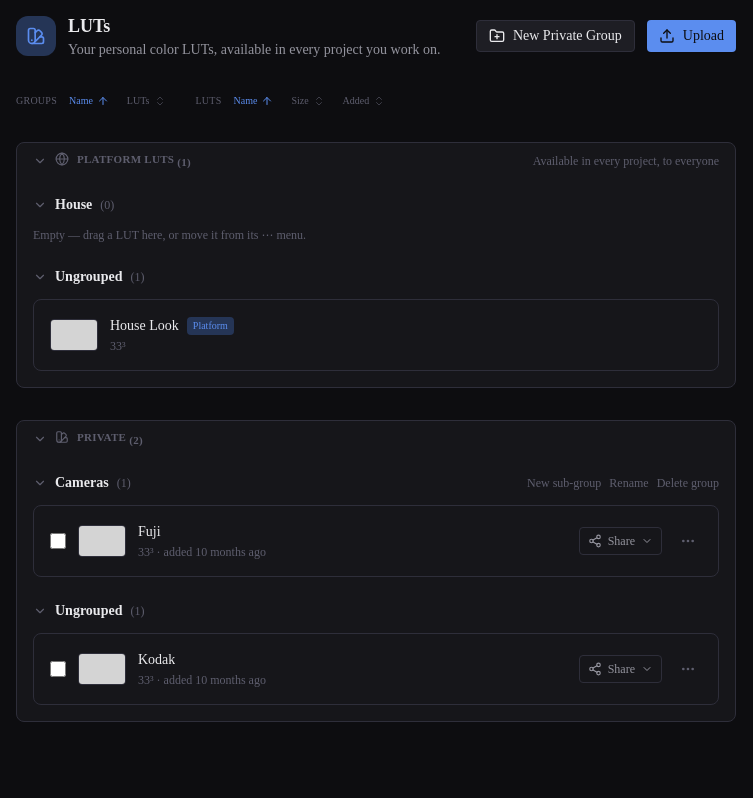
Scenario: platform promote and demote › shows neither to a non-superadmin
Click the checkbox named "Select Kodak". click: coordinates (58, 668)
box: x1=50 y1=660 x2=66 y2=676
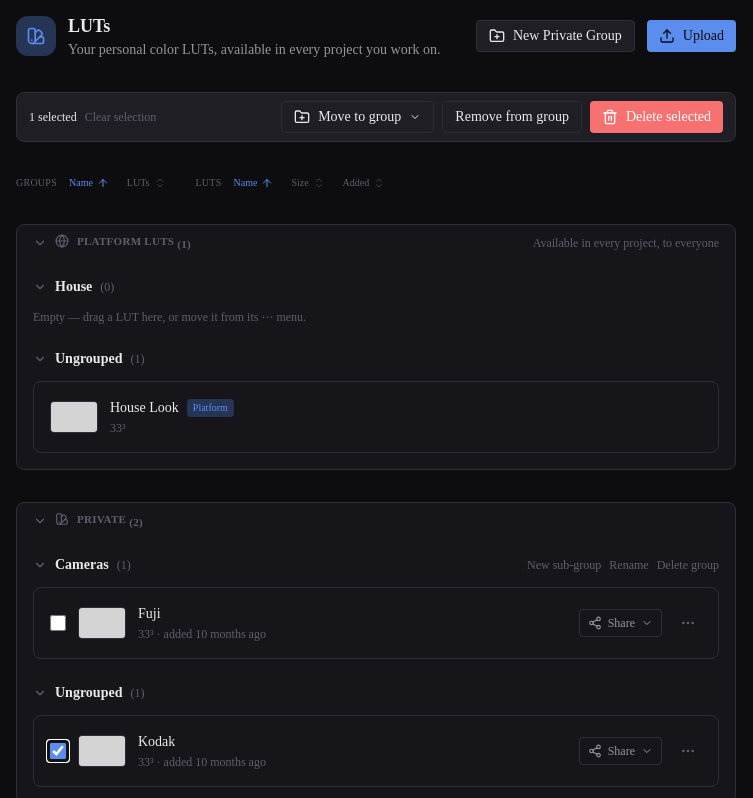
Result: the button "Remove from group" is shown at x1=442 y1=101 x2=582 y2=133
